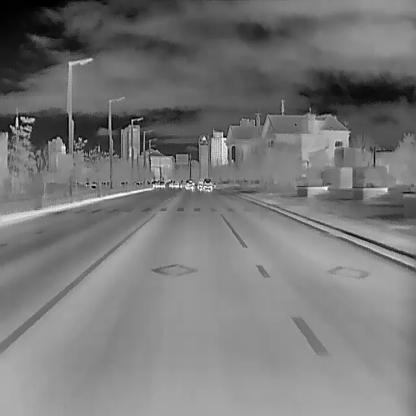car: (202, 178, 212, 192), (196, 178, 207, 189), (184, 180, 194, 190), (170, 180, 178, 188)
